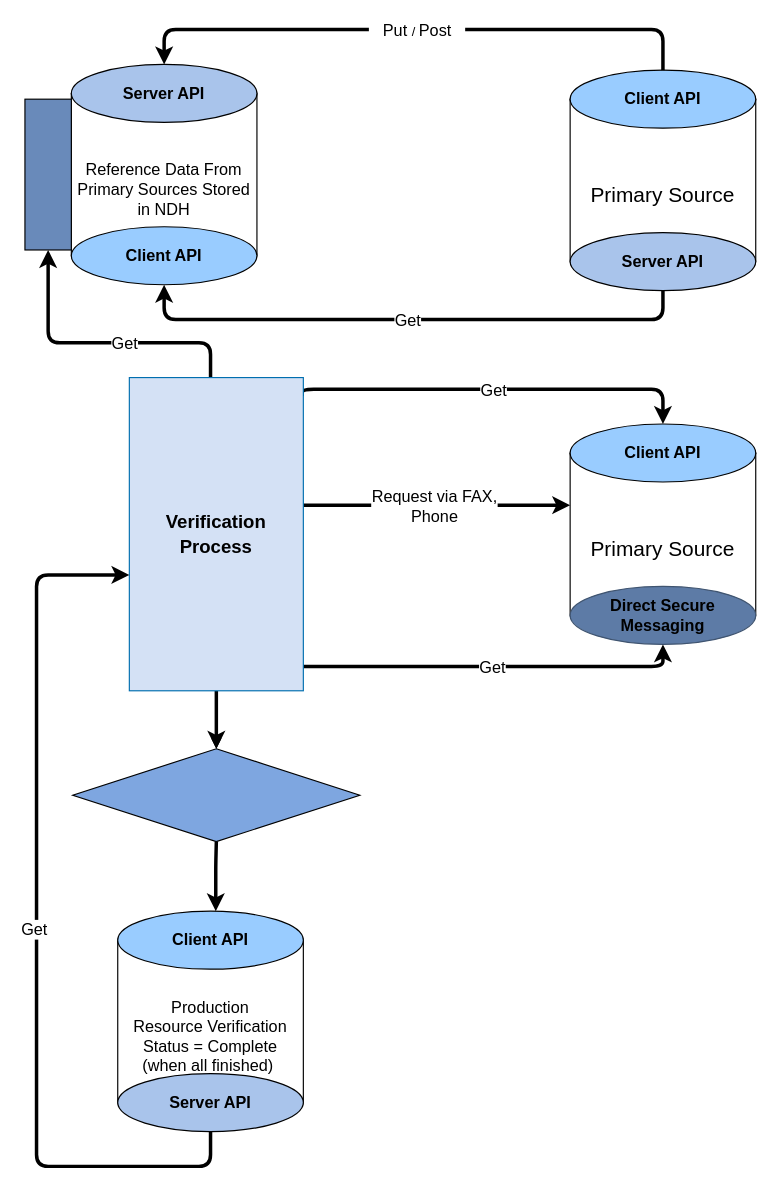
The diagram is 776 pixels wide and 1197 high, and some of its shapes have lost their labels. The shapes that lost their labels are listed below. From the top down, each one's centre as x and y in pixels, then its label:
the point at 47,174: A P I
the point at 216,795: Review / Release
